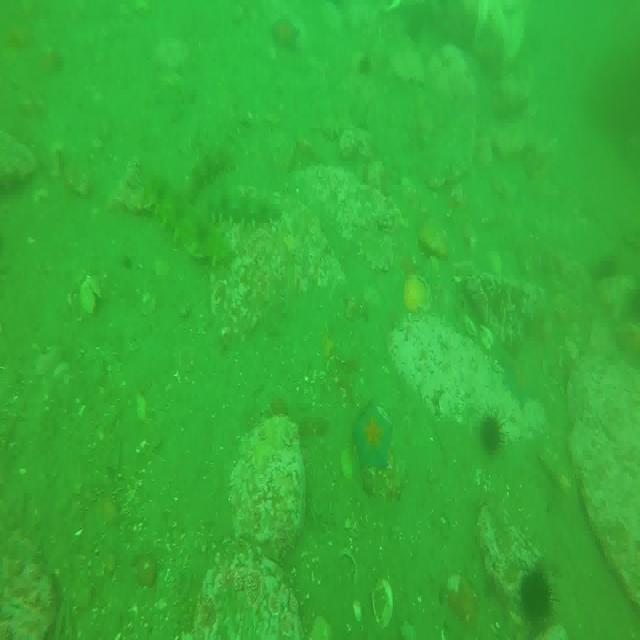echinus: (519, 565, 557, 628), (479, 411, 506, 455)
holothurian: (147, 178, 231, 262), (196, 182, 282, 230)
scallop: (402, 274, 436, 316), (78, 271, 103, 319), (372, 579, 395, 630)
starfish: (353, 402, 392, 471)
